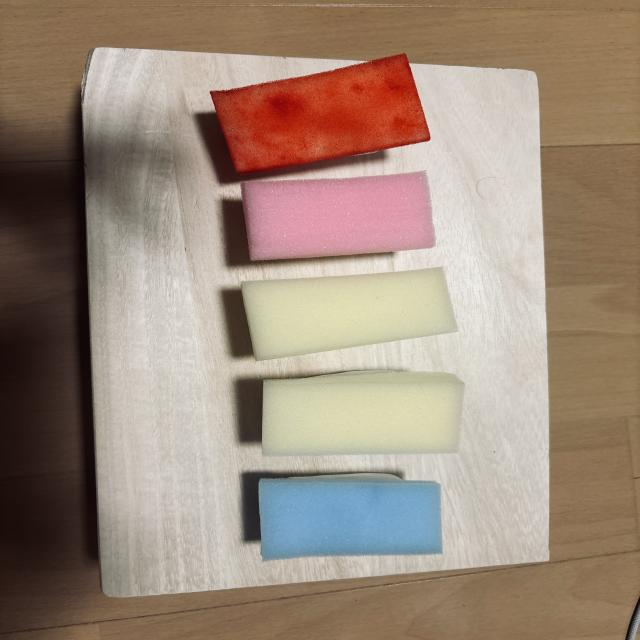ika: (259, 474, 442, 560)
salmon: (211, 54, 430, 174)
tai: (242, 172, 435, 260)
tamago: (241, 268, 457, 360), (262, 371, 465, 456)
